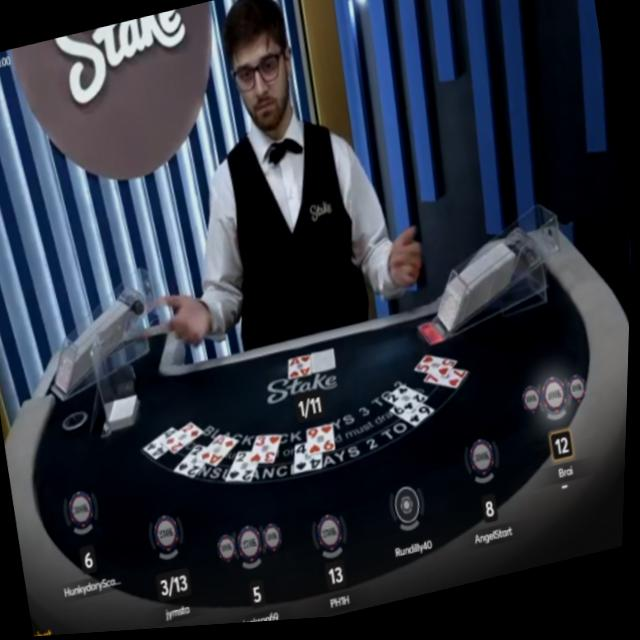Card-2: (386, 387, 430, 416), (168, 423, 205, 455), (177, 445, 209, 479), (228, 454, 261, 485)
Card-3: (252, 439, 284, 467)
Card-4: (144, 425, 179, 461), (297, 446, 325, 477)
Card-5: (417, 360, 459, 380)
Card-6: (393, 406, 437, 431)
Card-7: (426, 372, 469, 394)
Card-9: (309, 428, 338, 453)
Card-A: (202, 436, 240, 470), (290, 356, 314, 381)
